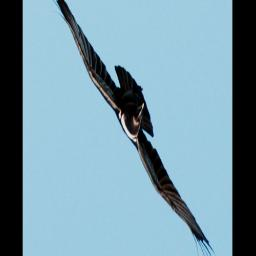Crow: (36, 0, 220, 256)
